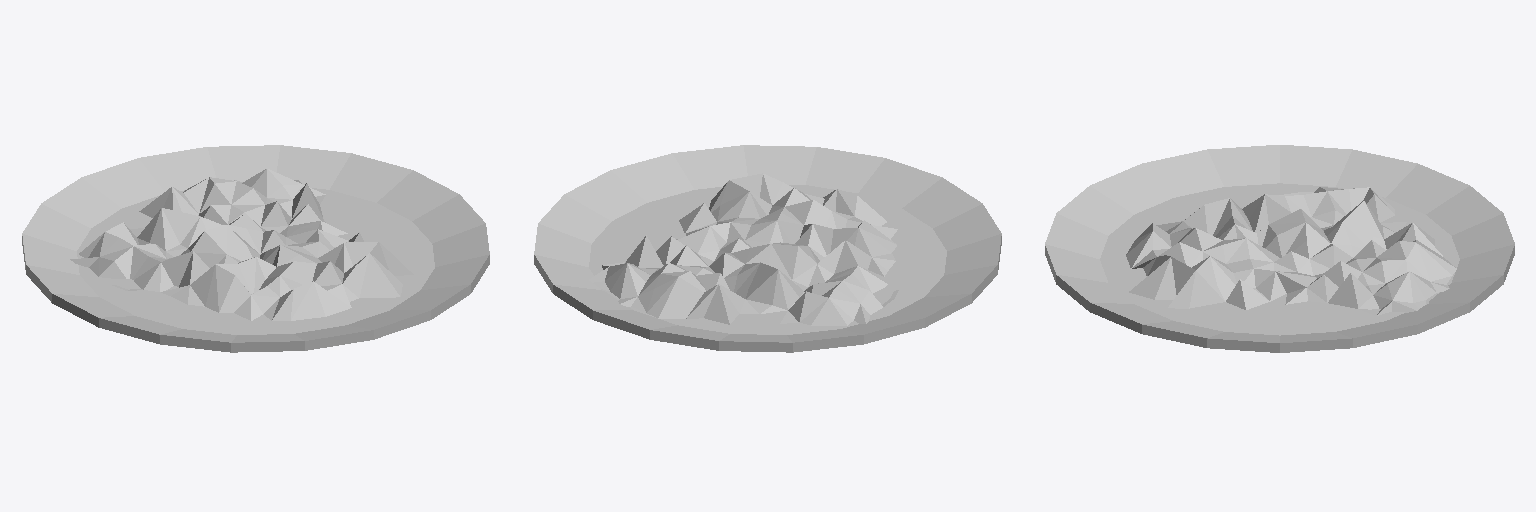
Rendered from PlateSalad.obj.
3 views of the same model, side by side, from view 1: azimuth 30°, elevation 25°; view 2: azimuth 150°, elevation 25°; view 3: azimuth 270°, elevation 25° (orthographic).
Bounding box in the file's own units: 0.2747 × 0.0391 × 0.2747.